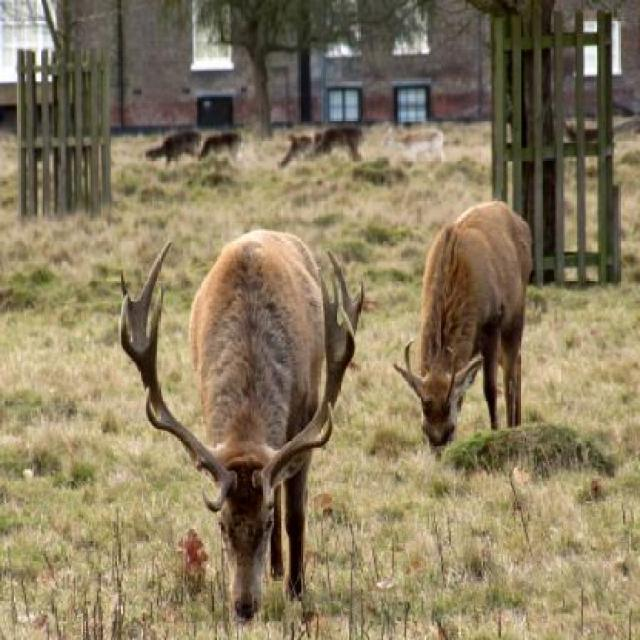Deer: (119, 228, 366, 622), (401, 201, 537, 476)
